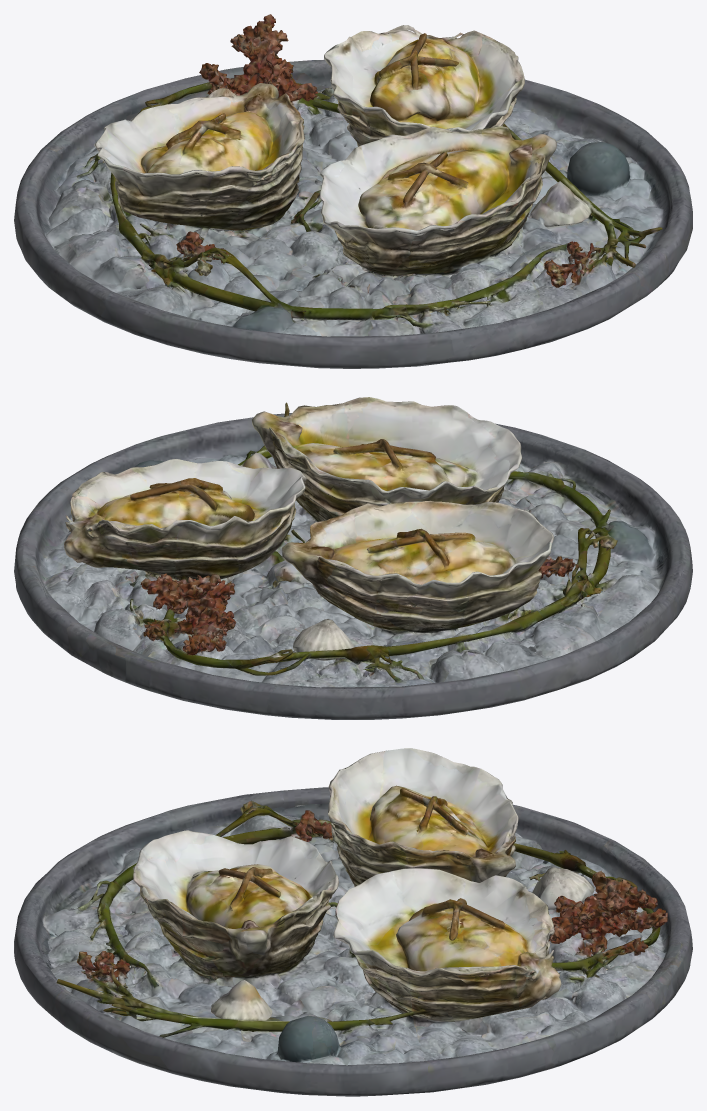
File: huitres-mobile-q.glb
3 views of the same model, one above another, from view 1: azimuth 30°, elevation 25°; view 2: azimuth 150°, elevation 25°; view 3: azimuth 270°, elevation 25° (orthographic).
Bounding box in the file's own units: 1.9 × 0.4812 × 1.9.
1 material, 1 textured.
